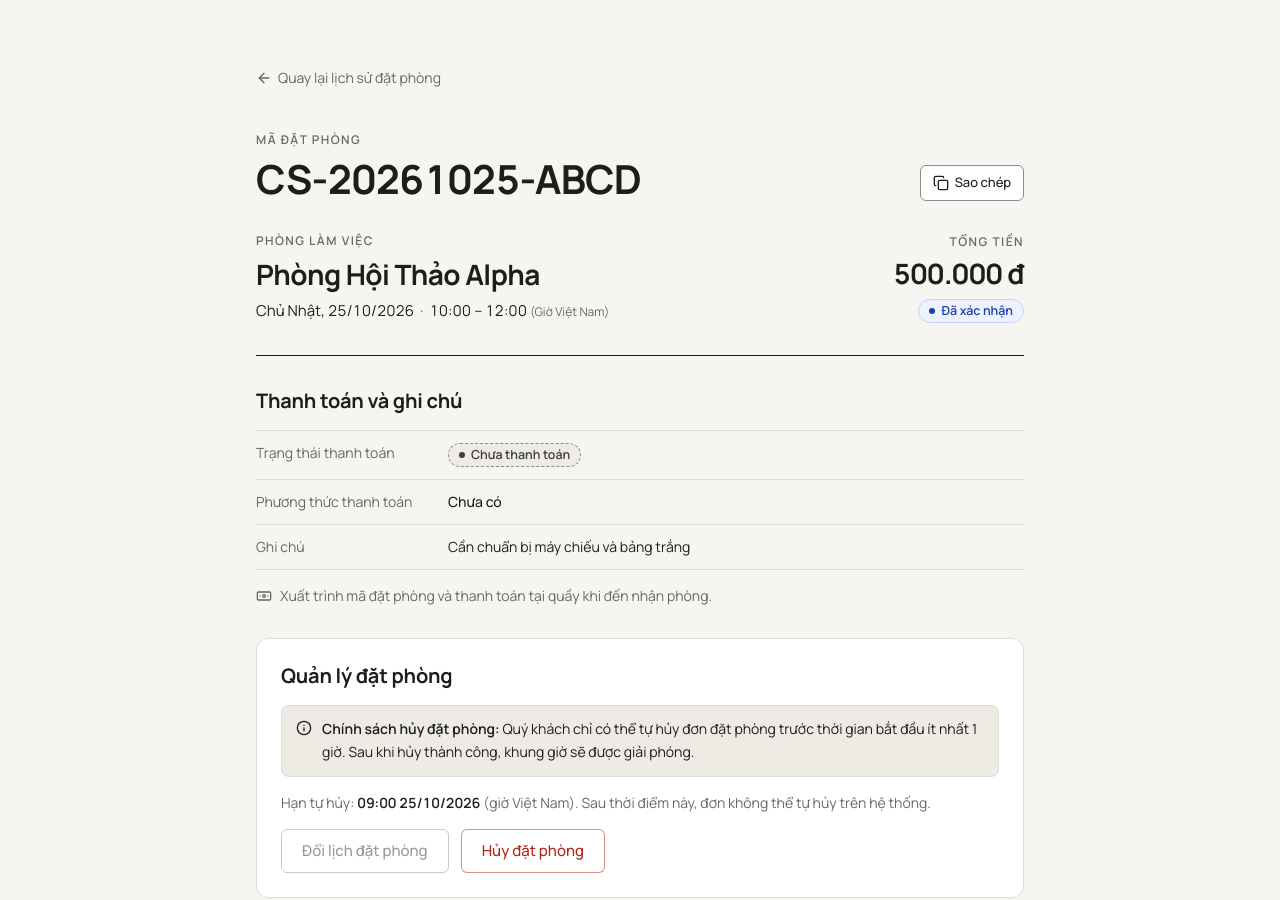
it: BookingDetailPage › Customer Booking Cancellation (CWB-26) › displays error alert when API returns 400 CANCELLATION_POLICY_VIOLATION (AC2)
Click the button with test id "cancel-booking-init-btn".
click(533, 851)  # box [461,829,605,873]
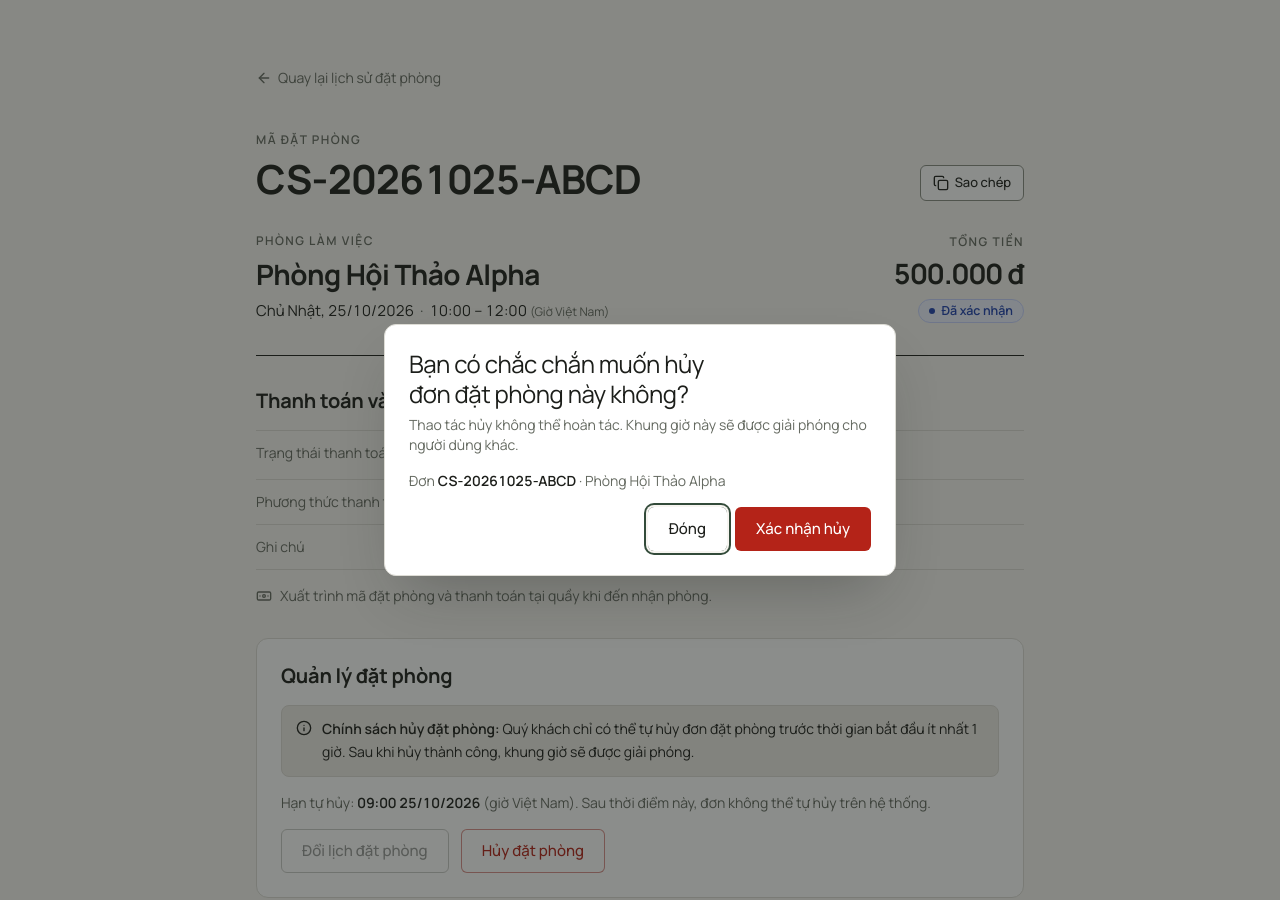
Click the button with test id "confirm-cancel-btn".
click(803, 529)  # box [735,507,871,551]
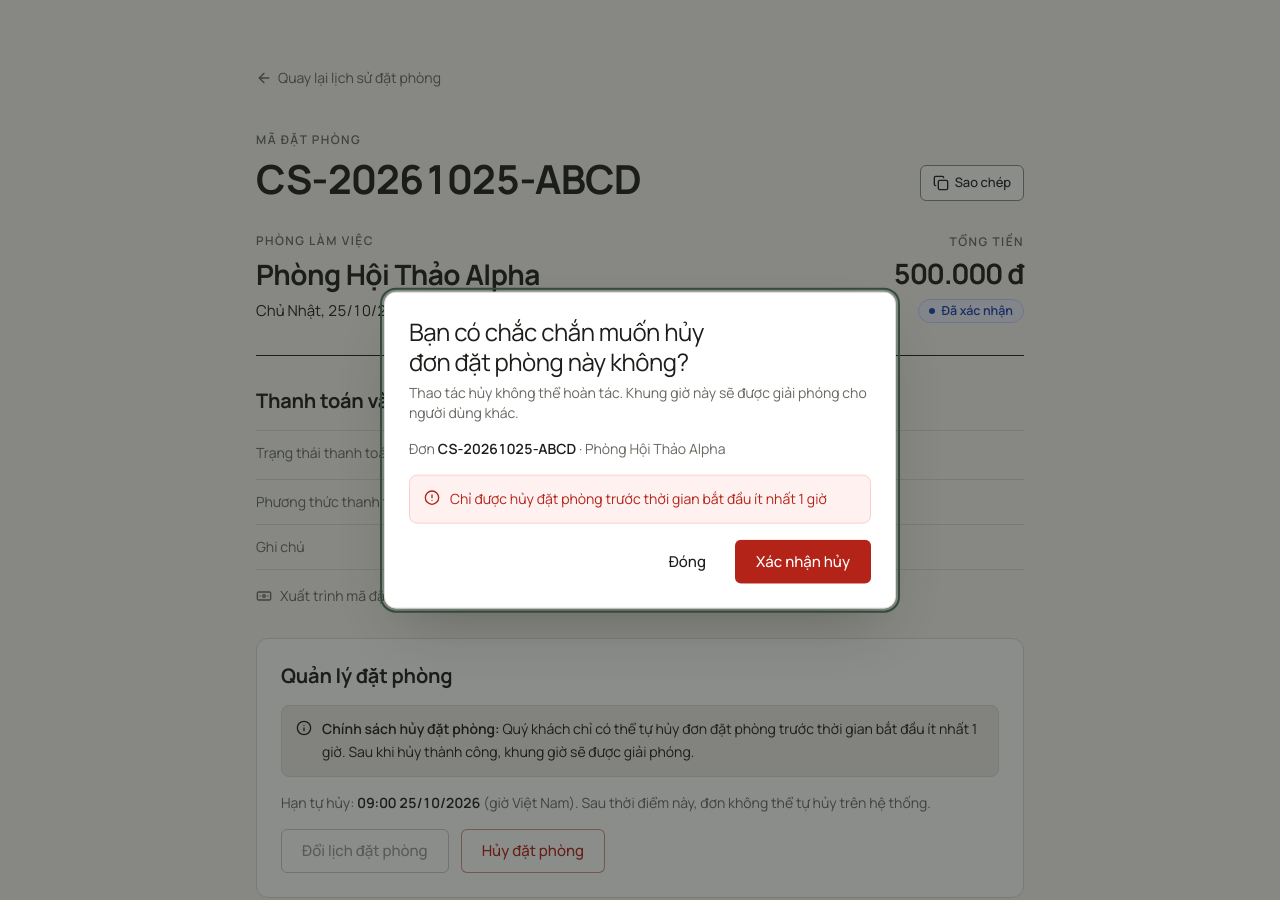
Expected: the element with test id "booking-status-badge" reads "Đã xác nhận", [942,302,1013,319]
Expected: the message "Chỉ được hủy đặt phòng trước thời gian bắt đầu ít nhất 1 giờ" is shown, [409,475,871,523]
Expected: the message with test id "cancel-error-banner" reads "Chỉ được hủy đặt phòng trước thời gian bắt đầu ít nhất 1 giờ", [450,489,827,508]
